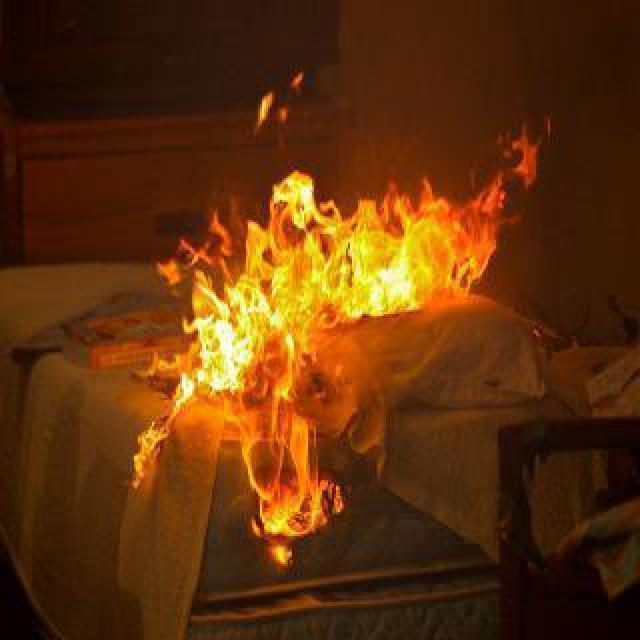Fire: (128, 104, 550, 554)
